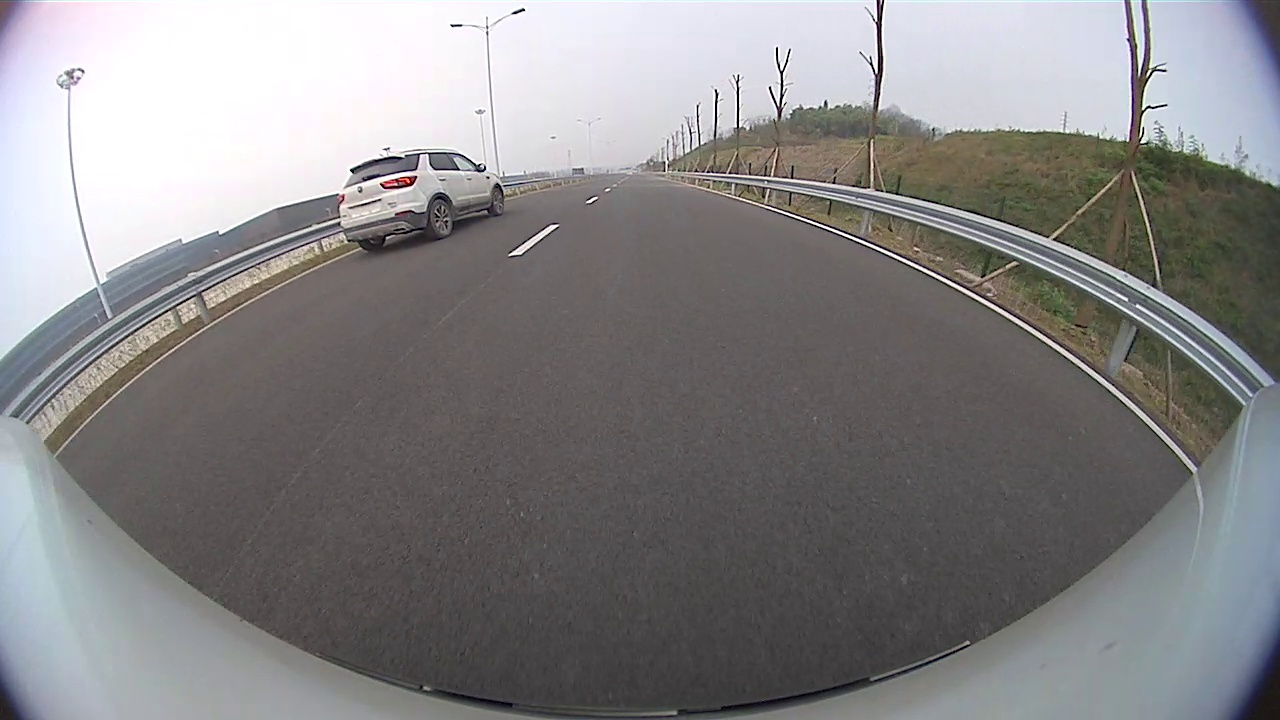car: (336, 149, 507, 254)
front: (490, 187, 505, 216)
rear: (429, 199, 454, 240)
